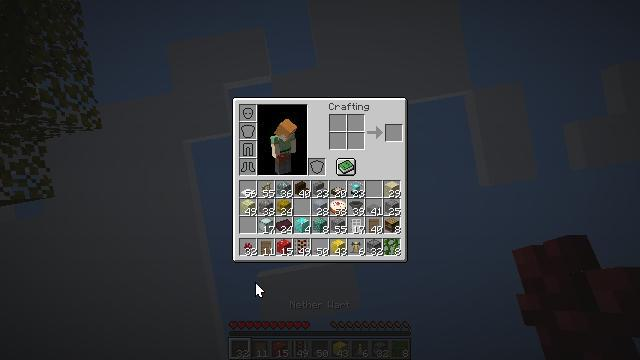cursor: (255, 282, 265, 298)
